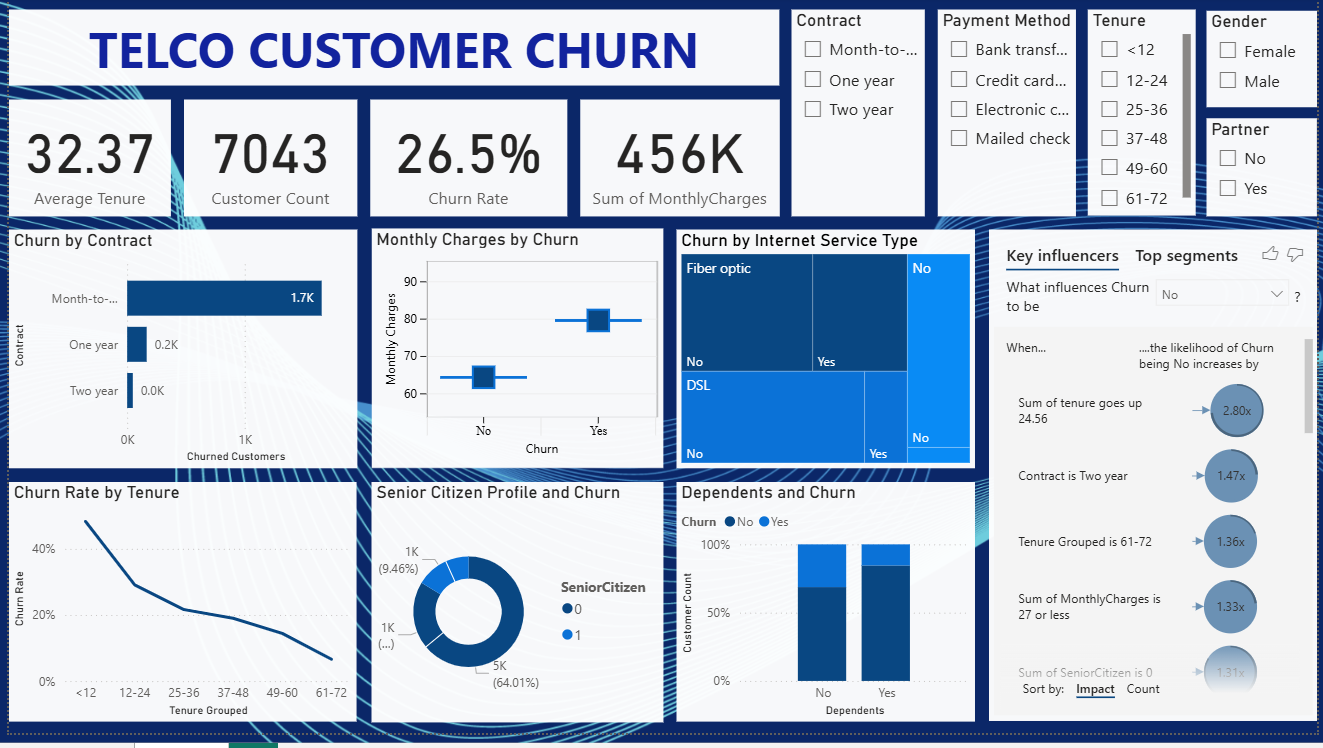

The page's visual inventory and layout, read from the dashboard file:
{"tool":"powerbi","page":{"name":"Page 1","canvas":[1280,720],"ordinal":0},"visuals":[{"type":"lineChart","title":"Churn by Tenure ","fields":{"Category":["Table1 (2).Tenure Grouped"],"Y":["CountNonNull(Table1 (2).Churn)"]},"box":[0,474.5,339.9,234.8],"z":0},{"type":"card","fields":{"Values":["Sum(Telco.MonthlyCharges)"]},"box":[652.8,102.8,235.2,111.3],"z":1000},{"type":"card","fields":{"Values":["Telco.Average Tenure"]},"box":[229,102.5,200,111.5],"z":2000},{"type":"card","fields":{"Values":["Telco.Customer Count"]},"box":[440.5,103.5,198,110.5],"z":3000},{"type":"card","fields":{"Values":["Telco.Churn Rate"]},"box":[0,102.8,216.9,112],"z":4000},{"type":"BoxandWhiskerByMAQ1823AD39DT234AB532063E128AX","title":"Monthly Charges  by Churn","fields":{"categoryGroup":["Table1 (2).Churn1"],"measure":["Sum(Table1 (2).MonthlyCharges)"]},"box":[354.2,226.5,285.3,234],"z":5000},{"type":"donutChart","title":"Senior Citizen Profile and Churn","fields":{"Category":["Table1 (2).SeniorCitizen"],"Y":["CountNonNull(Table1 (2).customerID)"],"Series":["Table1 (2).Churn"]},"box":[354.2,474.4,285.3,234.9],"z":6000},{"type":"keyDriversVisual","fields":{"Target":["Table1 (2).Churn"],"ExplainBy":["Table1 (2).Contract","Table1 (2).Dependents","Sum(Table1 (2).MonthlyCharges)","Table1 (2).gender","Table1 (2).MultipleLines","Table1 (2).PaperlessBilling","Table1 (2).Partner","Table1 (2).PaymentMethod","Table1 (2).PhoneService","Sum(Table1 (2).SeniorCitizen)","Table1 (2).Service","Table1 (2).Subscribed"]},"box":[958.5,228,322,480.5],"z":7000},{"type":"textbox","box":[0,12.1,888.3,74.7],"z":8000},{"type":"treemap","title":"Service Subscribed","fields":{"Group":["Table1 (2).Service"],"Values":["CountNonNull(Table1 (2).Subscribed)"]},"box":[652.6,228.2,292.3,232.1],"z":9000},{"type":"hundredPercentStackedColumnChart","title":"Dependents and Churn","fields":{"Category":["Table1 (2).Dependents"],"Series":["Table1 (2).Churn"],"Y":["CountNonNull(Table1 (2).customerID)"]},"box":[652.6,474.4,292.3,234.6],"z":10000},{"type":"slicer","title":"Gender","fields":{"Values":["Table1 (2).gender"]},"box":[1171.5,13.5,108.8,94.2],"z":11000},{"type":"slicer","title":"Tenure","fields":{"Values":["Table1 (2).Tenure Grouped"]},"box":[1055.4,12.7,105.4,201.2],"z":12000},{"type":"slicer","title":"Partner","fields":{"Values":["Table1 (2).Partner"]},"box":[1171.3,118.1,108.2,95.9],"z":13000},{"type":"slicer","title":"Payment Method","fields":{"Values":["Table1 (2).PaymentMethod"]},"box":[899.4,12,144.6,203],"z":14000},{"type":"barChart","title":" Churn by Contract","fields":{"Category":["Table1 (2).Contract"],"Y":["CountNonNull(Table1 (2).Churn)"]},"box":[0,227.3,340.3,233.8],"z":15000}]}

Visuals, with their boxes in screenshot pixels (x1, y1, x2, y2), scaled from the page's 1280x720 canvas onto the 1323x748 screenshot:
"Churn by Tenure " lineChart: x1=0 y1=493 x2=351 y2=737
card - Sum(Telco.MonthlyCharges): x1=675 y1=107 x2=918 y2=222
card - Telco.Average Tenure: x1=237 y1=106 x2=443 y2=222
card - Telco.Customer Count: x1=455 y1=108 x2=660 y2=222
card - Telco.Churn Rate: x1=0 y1=107 x2=224 y2=223
"Monthly Charges  by Churn" BoxandWhiskerByMAQ1823AD39DT234AB532063E128AX: x1=366 y1=235 x2=661 y2=478
"Senior Citizen Profile and Churn" donutChart: x1=366 y1=493 x2=661 y2=737
keyDriversVisual - Table1 (2).Churn x Table1 (2).Contract: x1=991 y1=237 x2=1322 y2=736
textbox: x1=0 y1=13 x2=918 y2=90
"Service Subscribed" treemap: x1=675 y1=237 x2=977 y2=478
"Dependents and Churn" hundredPercentStackedColumnChart: x1=675 y1=493 x2=977 y2=737
"Gender" slicer: x1=1211 y1=14 x2=1322 y2=112
"Tenure" slicer: x1=1091 y1=13 x2=1200 y2=222
"Partner" slicer: x1=1211 y1=123 x2=1322 y2=222
"Payment Method" slicer: x1=930 y1=12 x2=1079 y2=223
" Churn by Contract" barChart: x1=0 y1=236 x2=352 y2=479
